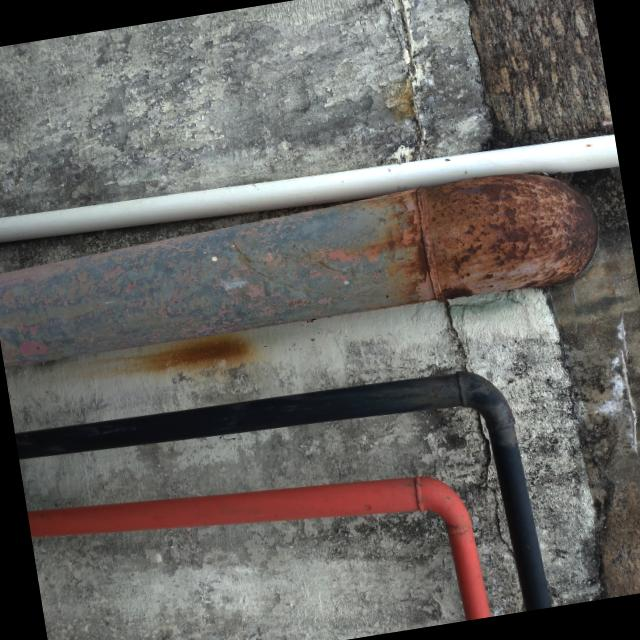gas: (13, 369, 550, 605), (0, 177, 591, 364), (0, 136, 620, 247), (27, 479, 492, 620)
